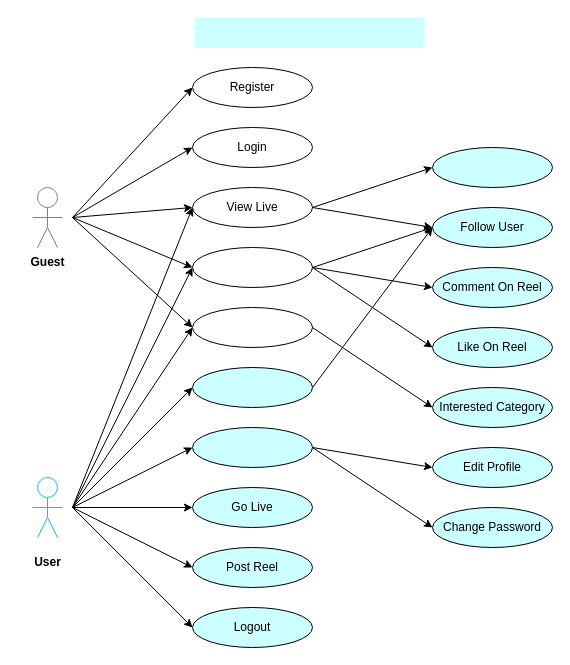
Image size: 570x665. Some labels were removed from this diagram. The centre of each missing label's shape, as x and y in pixels:
Comment On Live: (x=492, y=167)
NOTE: Light blue is only USER's action: (x=309, y=32)
View Category: (x=252, y=327)
View Followed Channel: (x=252, y=387)
View Profile: (x=252, y=447)
View Reel: (x=252, y=267)
